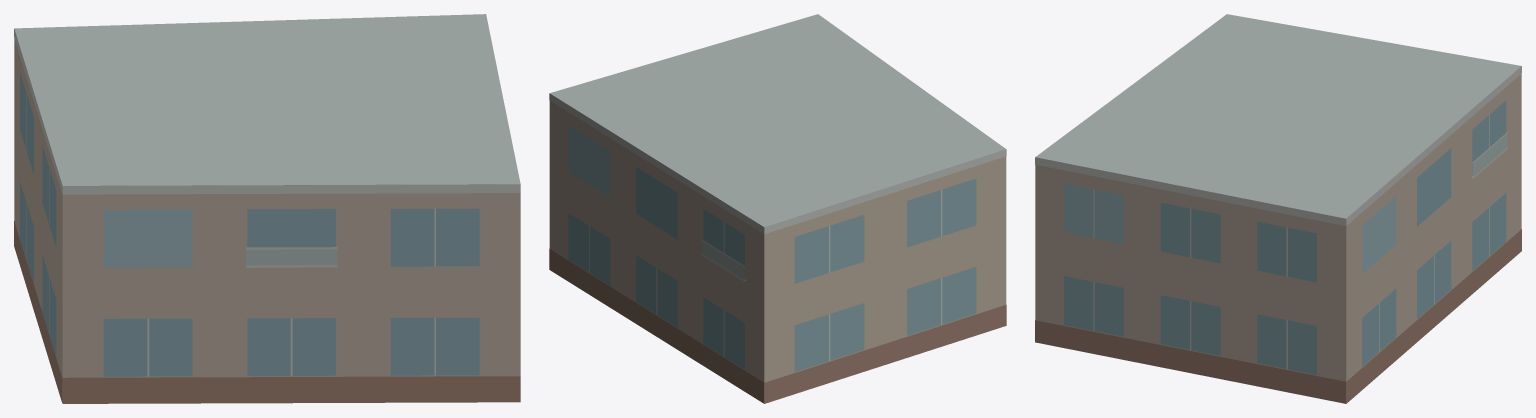
File: survey-upis-32778749.glb
3 renders of one model, left to right at view 1: azimuth 30°, elevation 25°; view 2: azimuth 150°, elevation 25°; view 3: azimuth 270°, elevation 25°, orthographic. The views are drawn at different scales.
Visible parts, largest first — view 1: survey-upis-32778749.tmp; view 2: survey-upis-32778749.tmp; view 3: survey-upis-32778749.tmp.
Boxes of the visible parts, x1,y1,x2,y2 form: survey-upis-32778749.tmp: (14,14,520,403); survey-upis-32778749.tmp: (549,14,1006,403); survey-upis-32778749.tmp: (1035,14,1521,403).
Size of the model in its own units: 14.47 by 6.1 by 14.54.
